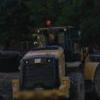Tractor: (13, 36, 92, 98)
